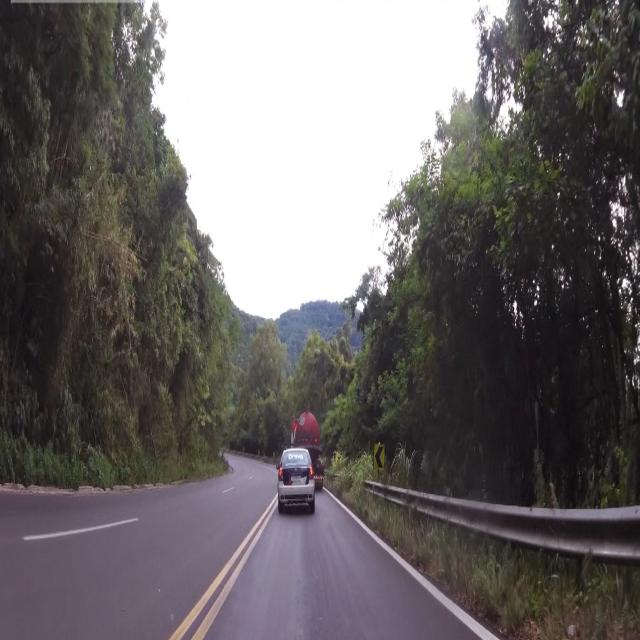Del: (375, 440, 385, 475)
